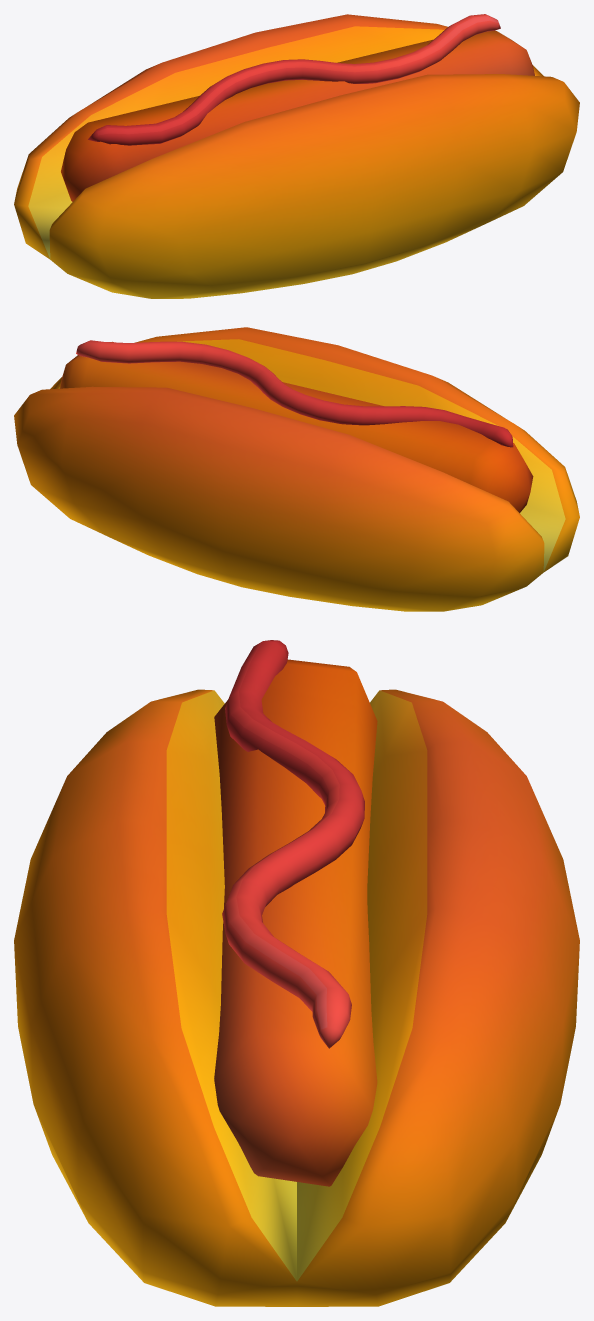
Rendered from hot_dog_001.fbx.
3 renders of one model, top to bottom at view 1: azimuth 30°, elevation 25°; view 2: azimuth 150°, elevation 25°; view 3: azimuth 270°, elevation 25°, orthographic. The views are drawn at different scales.
Visible parts, largest first — view 1: hot_dog_001; view 2: hot_dog_001; view 3: hot_dog_001.
Part boxes in pixels (x1,y1,x2,y2): hot_dog_001: [14, 14, 579, 298]; hot_dog_001: [14, 327, 579, 611]; hot_dog_001: [14, 640, 579, 1306].
Bounding box in the file's own units: 23.36 × 11.34 × 7.42.
